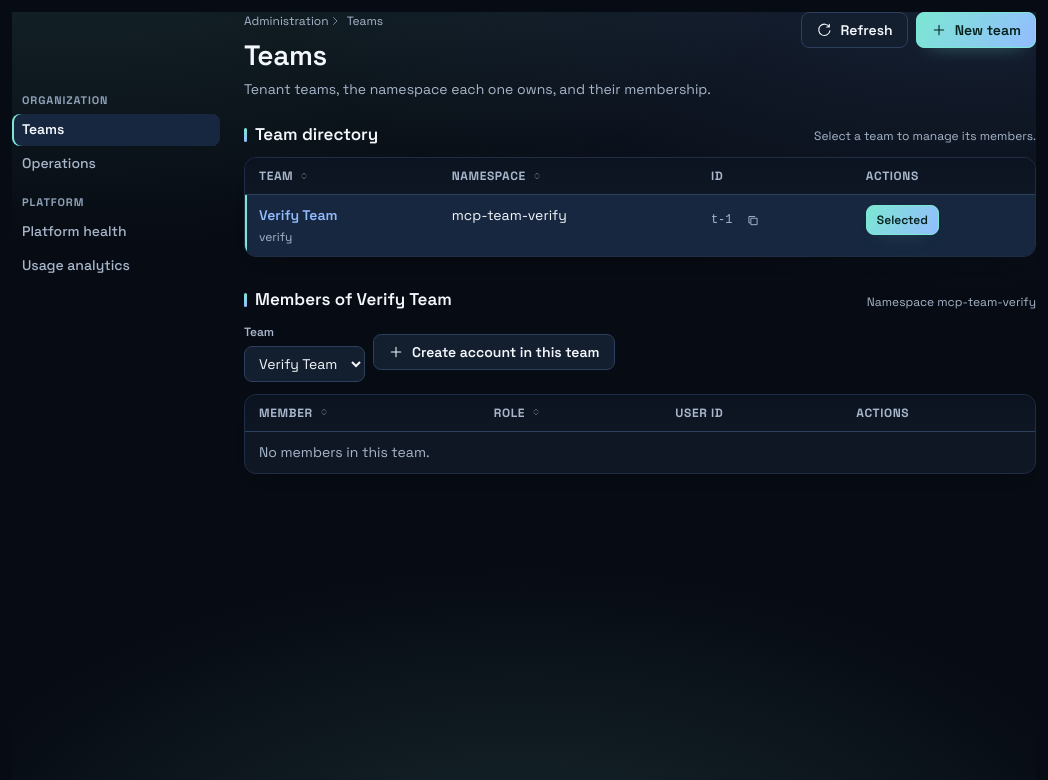
it: admin accessibility › has no detectable violations on operations
Check: the table with test id "teams-table" is shown, box top-left (245, 158), bottom-right (1035, 256)
Click the button with test id "admin-section-operations": (116, 164) top-left (12, 148), bottom-right (220, 180)
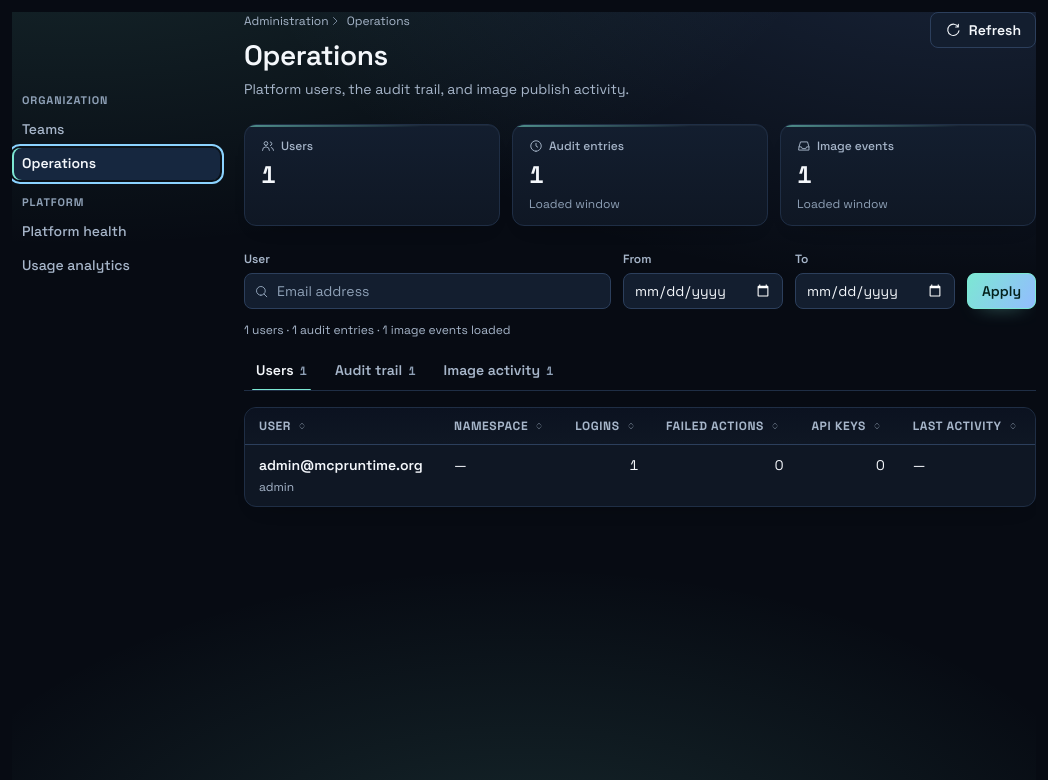
Check: the table with test id "operations-users-table" is shown, box top-left (245, 408), bottom-right (1035, 506)
